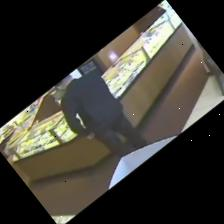person: (56, 73, 148, 157)
